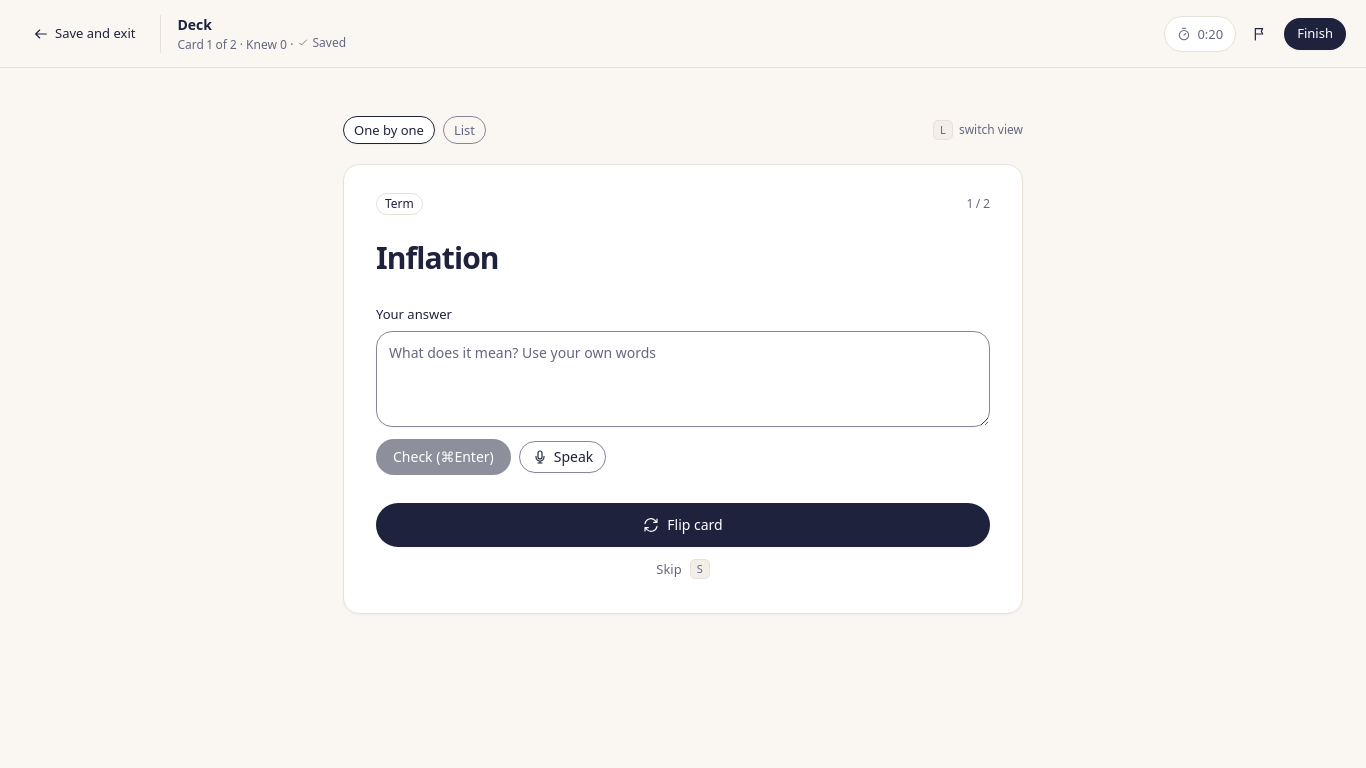
Test: toggles the list without rating and ignores shortcuts while typing
Step 1. Press l in the text box labelled "Your answer", box [376,331,990,427]
Step 2. Press l
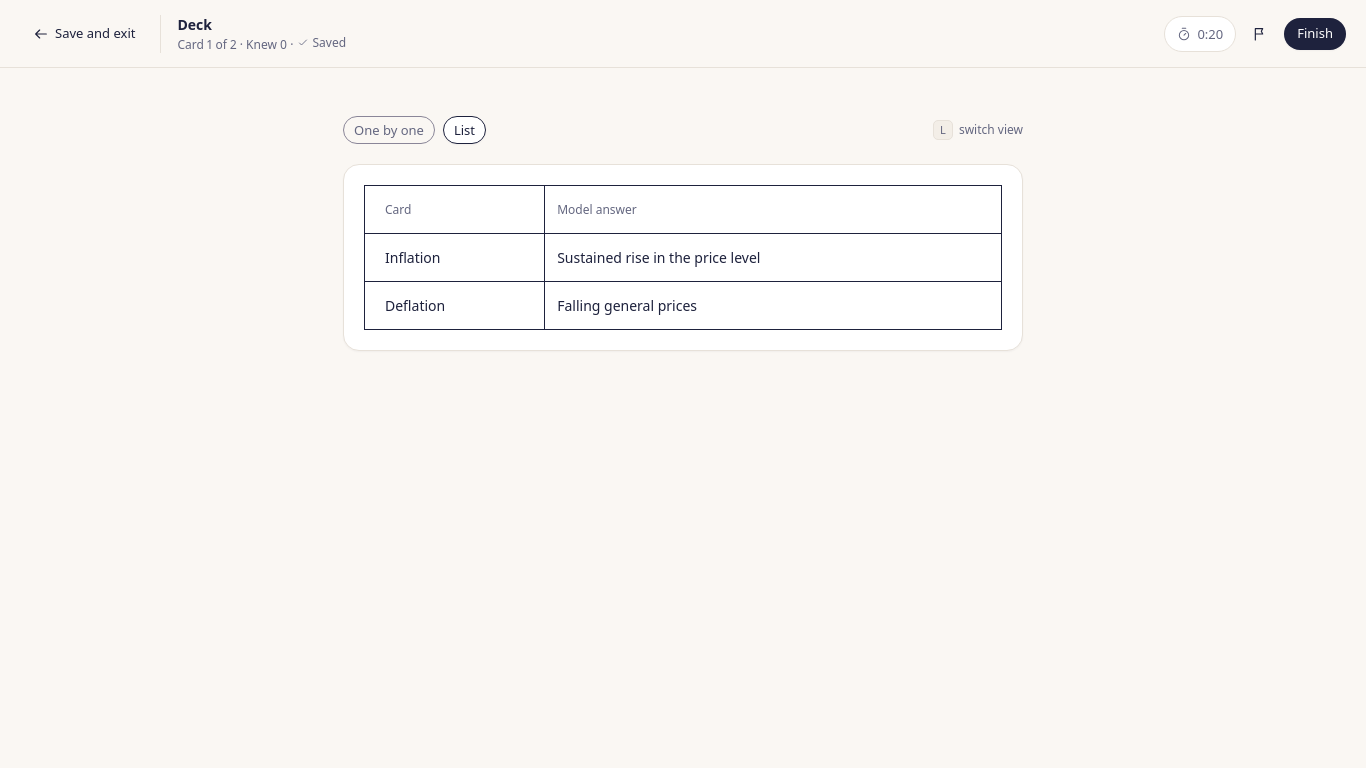
Now the table shows "Falling general prices", box [557,296,697,314]
Step 3. Click the button "One by one" → click(389, 130), box [343,116,435,144]
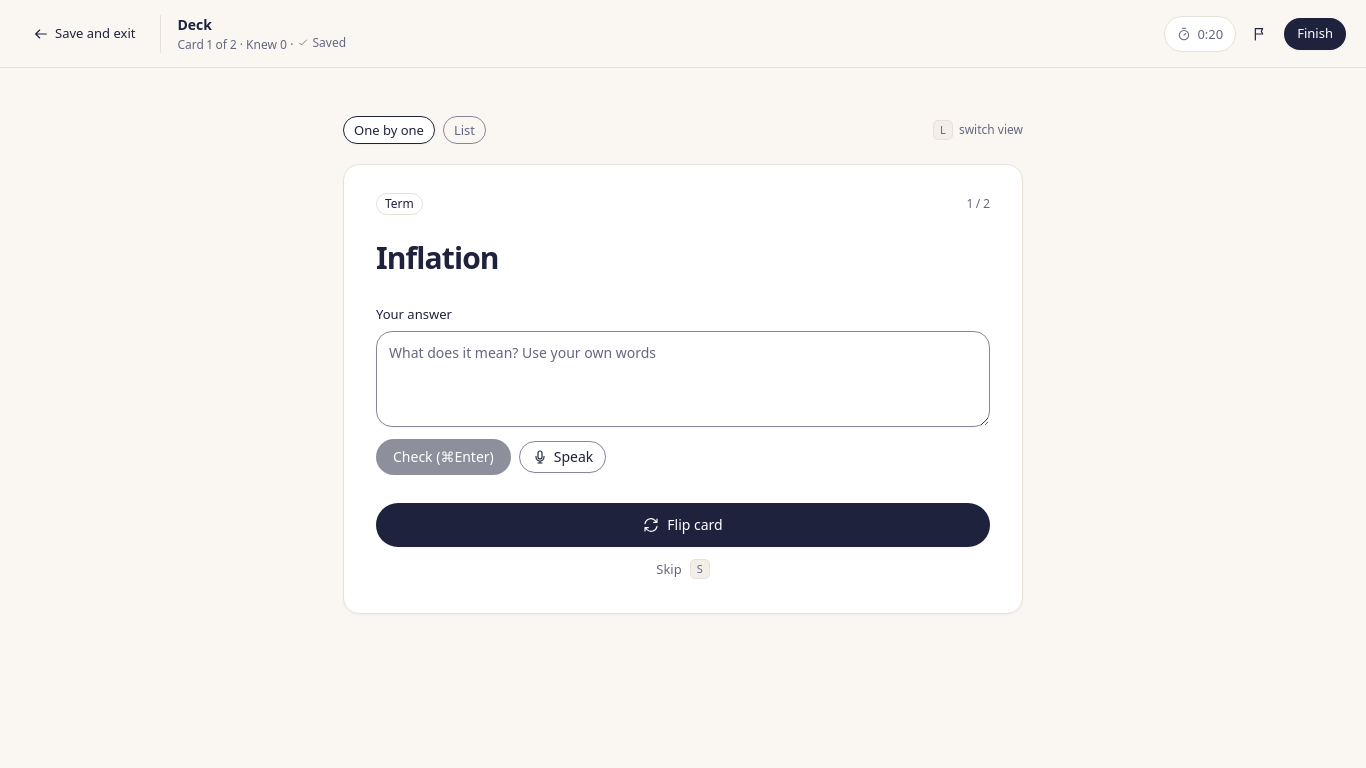
Now the text box is shown, box [376,331,990,427]
